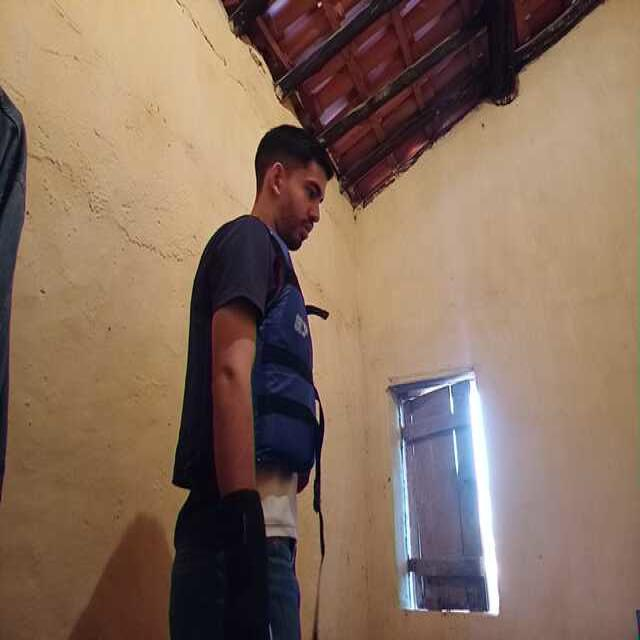colete: (186, 222, 315, 485)
pessoa: (172, 126, 340, 640)
